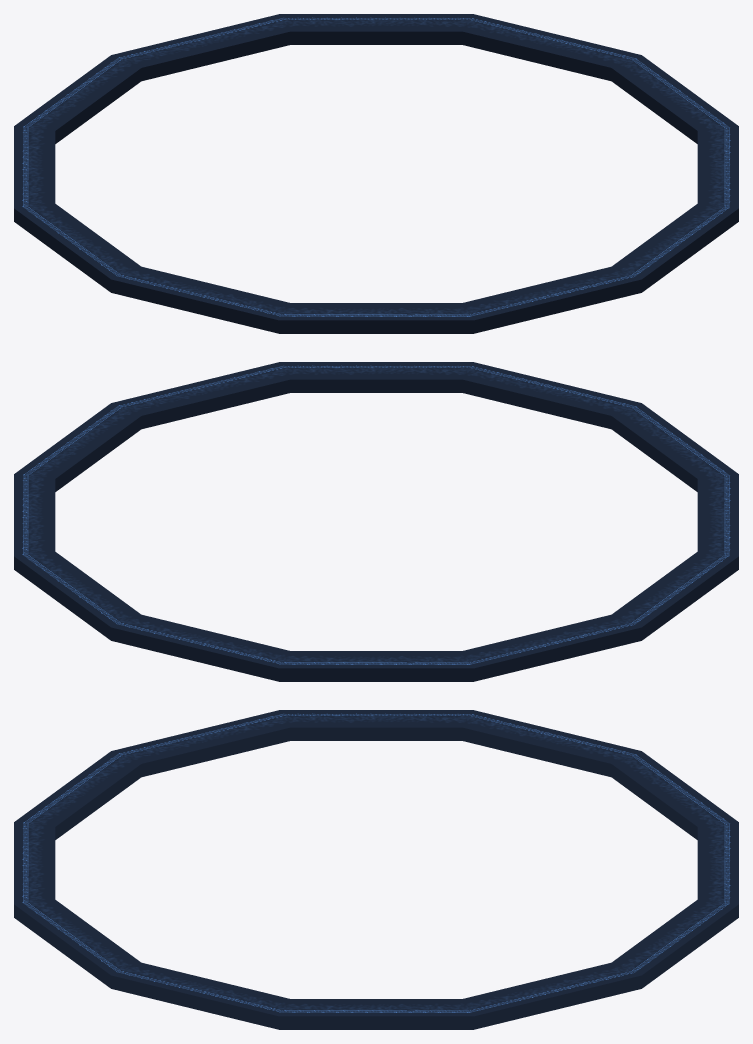
File: stage05_bridge02.FBX
3 views of the same model, one above another, from view 1: azimuth 30°, elevation 25°; view 2: azimuth 150°, elevation 25°; view 3: azimuth 270°, elevation 25° (orthographic).
Visible parts, largest first — view 1: Tube042; view 2: Tube042; view 3: Tube042.
Boxes of the visible parts, box(x1,y1,x2,y2) form: Tube042: box(14, 14, 738, 333); Tube042: box(14, 362, 738, 681); Tube042: box(14, 710, 738, 1029).
Size of the model in its own units: 1454 by 29.68 by 1454.
